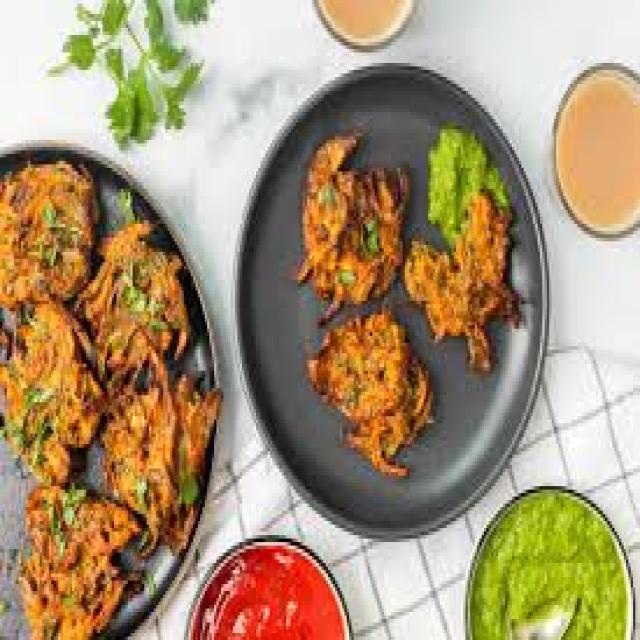BAJI: (4, 156, 221, 636), (299, 129, 409, 321), (309, 311, 434, 477), (405, 189, 516, 367)
